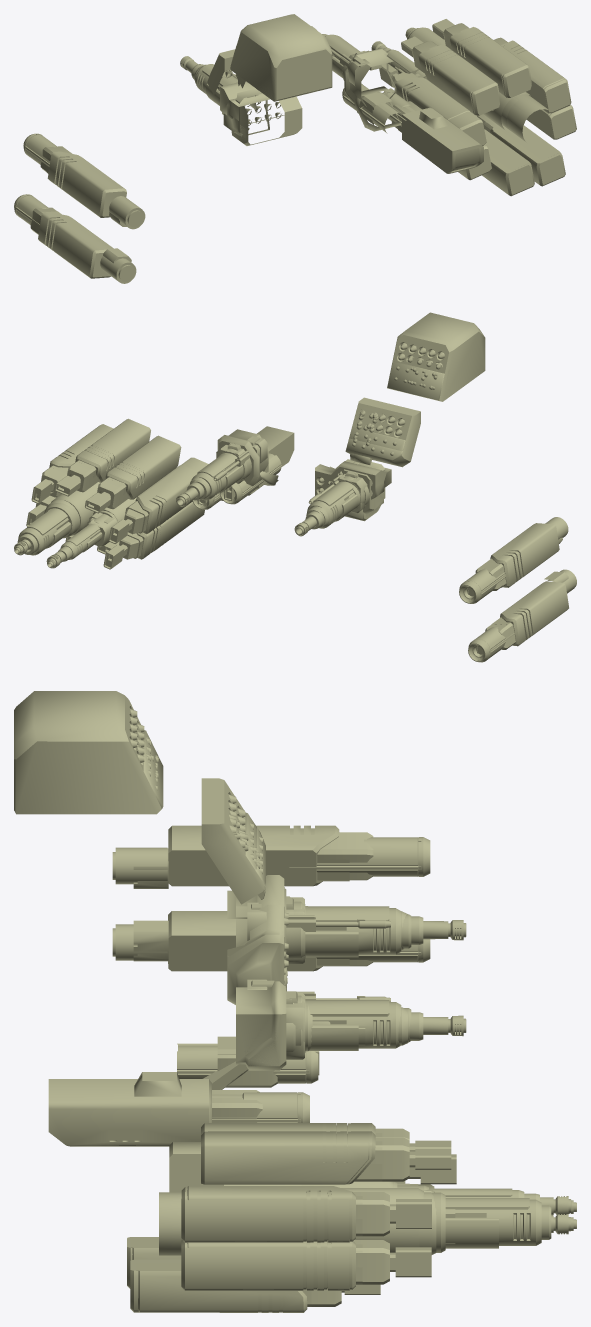
The model's file is VictorWeapons.glb.
3 renders of one model, top to bottom at view 1: azimuth 30°, elevation 25°; view 2: azimuth 150°, elevation 25°; view 3: azimuth 270°, elevation 25°, orthographic. The views are drawn at different scales.
Visible parts, largest first — view 1: Torso_Left_MH2_Missile10, Torso_Left_MH2_Missile20, Forearm_Right_EH6_Flamer, Forearm_Left_EH2_Laser, Forearm_Right_EH5_Flamer, Forearm_Left_EH2_PPC, Forearm_Left_EH1_Flamer, Forearm_Right_EH8_Flamer, Torso_Right_EH2_PPC, Torso_Left_MH3_Missile20, Forearm_Right_EH6_Laser, Torso_Right_EH2_Flamer (+29 smaller); view 2: Torso_Left_MH2_Missile10, Forearm_Right_EH8_Flamer, Torso_Left_MH1_Missile10, Forearm_Right_BH1_AC20, Forearm_Left_EH2_Laser, Torso_Left_MH2_Missile20, Forearm_Right_EH9_Flamer, Forearm_Right_EH6_Laser, Forearm_Left_EH2_PPC, Forearm_Right_EH6_Flamer, Forearm_Right_EH5_Flamer, Forearm_Right_EH5_Laser (+18 smaller); view 3: Torso_Left_MH2_Missile10, Torso_Right_EH2_Flamer, Forearm_Right_EH5_Flamer, Forearm_Right_EH3_Flamer, Forearm_Right_EH10_Flamer, Forearm_Left_EH1_PPC, Torso_Right_BH1_AC20, Forearm_Right_BH1_AC20, Forearm_Left_EH2_PPC, Forearm_Right_EH4_Laser, Torso_Left_BH1_AC20, Torso_Left_MH1_Missile10 (+22 smaller).
Boxes of the visible parts, box(x1,y1,x2,y2) form: Torso_Left_MH2_Missile10: box(230, 14, 332, 101); Torso_Left_MH2_Missile20: box(239, 15, 332, 100); Forearm_Right_EH6_Flamer: box(401, 36, 500, 115); Forearm_Left_EH2_Laser: box(30, 207, 127, 278); Forearm_Right_EH5_Flamer: box(432, 19, 531, 97); Forearm_Left_EH2_PPC: box(14, 194, 136, 283); Forearm_Left_EH1_Flamer: box(46, 152, 126, 226); Forearm_Right_EH8_Flamer: box(379, 63, 469, 120); Torso_Right_EH2_PPC: box(382, 91, 480, 173); Torso_Left_MH3_Missile20: box(220, 81, 302, 143); Forearm_Right_EH6_Laser: box(412, 40, 475, 114); Torso_Right_EH2_Flamer: box(398, 107, 480, 172); Torso_Left_MH2_Missile10: box(387, 312, 485, 401); Forearm_Right_EH8_Flamer: box(108, 465, 197, 543); Torso_Left_MH1_Missile10: box(345, 397, 420, 467); Forearm_Right_BH1_AC20: box(17, 482, 100, 555); Forearm_Left_EH2_Laser: box(485, 571, 568, 649); Torso_Left_MH2_Missile20: box(387, 314, 485, 401); Forearm_Right_EH9_Flamer: box(103, 502, 195, 569); Forearm_Right_EH6_Laser: box(97, 445, 180, 509); Forearm_Left_EH2_PPC: box(468, 569, 576, 662); Forearm_Right_EH6_Flamer: box(85, 435, 181, 513); Forearm_Right_EH5_Flamer: box(54, 418, 150, 496); Forearm_Right_EH5_Laser: box(67, 428, 150, 492); Torso_Left_MH2_Missile10: box(14, 691, 163, 814); Torso_Right_EH2_Flamer: box(48, 1072, 211, 1146); Forearm_Right_EH5_Flamer: box(201, 1131, 451, 1184); Forearm_Right_EH3_Flamer: box(181, 1187, 431, 1242); Forearm_Right_EH10_Flamer: box(181, 1239, 431, 1290); Forearm_Left_EH1_PPC: box(112, 837, 430, 886); Torso_Right_BH1_AC20: box(236, 991, 411, 1070); Forearm_Right_BH1_AC20: box(341, 1188, 551, 1252); Forearm_Left_EH2_PPC: box(112, 911, 430, 971); Forearm_Right_EH4_Laser: box(136, 1262, 341, 1312); Torso_Left_BH1_AC20: box(284, 888, 411, 958); Torso_Left_MH1_Missile10: box(201, 778, 265, 904).
Size of the model in its own units: 2.19 by 1.02 by 1.37.
